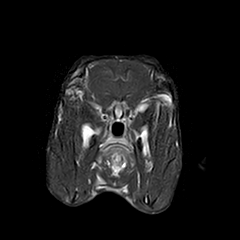Brain: (71, 29, 170, 127)
